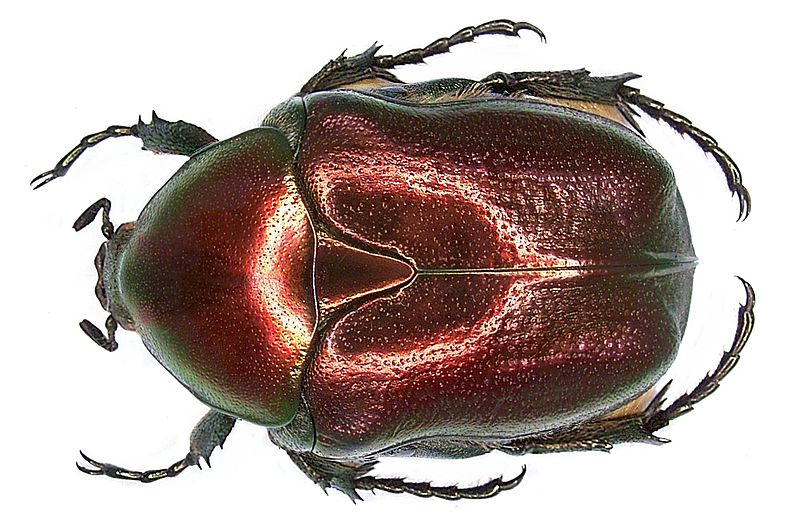Protaetia_angustata_angustata: (28, 12, 767, 515)
